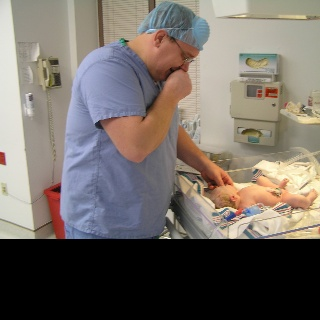without_mask: (153, 34, 200, 81), (218, 184, 236, 194)
